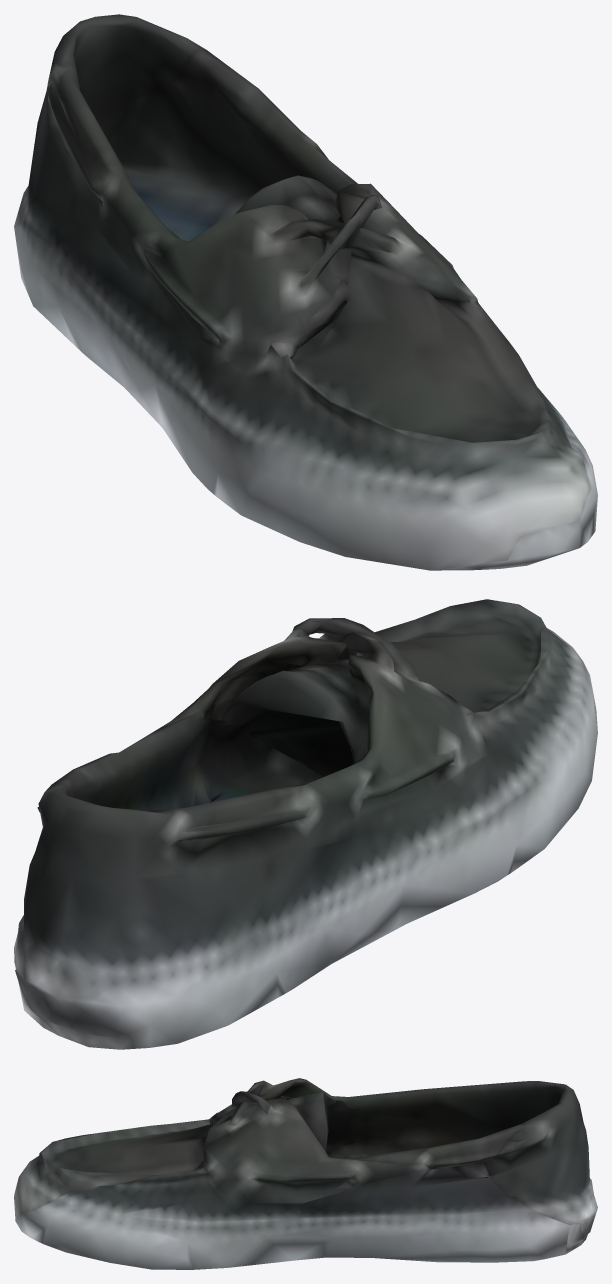
File: Womens_Suede_Bahama_in_Graphite_Suede_t22AJSRjBOX-medium.glb
3 views of the same model, one above another, from view 1: azimuth 30°, elevation 25°; view 2: azimuth 150°, elevation 25°; view 3: azimuth 270°, elevation 25° (orthographic). The views are drawn at different scales.
Visible parts, largest first — view 1: Womens_Suede_Bahama_in_Graphite_Suede_t22AJSRjBOX; view 2: Womens_Suede_Bahama_in_Graphite_Suede_t22AJSRjBOX; view 3: Womens_Suede_Bahama_in_Graphite_Suede_t22AJSRjBOX.
Boxes of the visible parts, box(x1,y1,x2,y2) form: Womens_Suede_Bahama_in_Graphite_Suede_t22AJSRjBOX: box(14, 14, 597, 570); Womens_Suede_Bahama_in_Graphite_Suede_t22AJSRjBOX: box(14, 599, 597, 1049); Womens_Suede_Bahama_in_Graphite_Suede_t22AJSRjBOX: box(14, 1078, 597, 1269).
Size of the model in its own units: 0.0873 by 0.0719 by 0.2556.
1 material, 1 textured.
